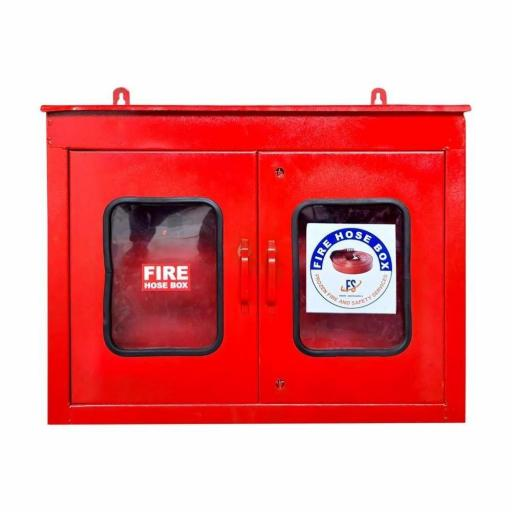fire_hose: (31, 86, 475, 425)
